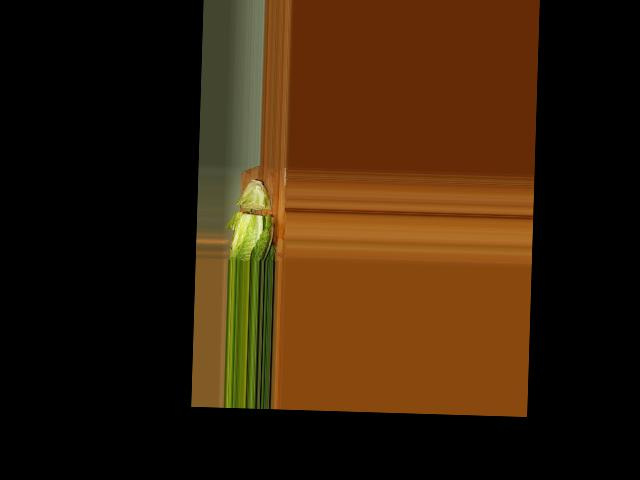lettuce: (226, 179, 280, 260)
